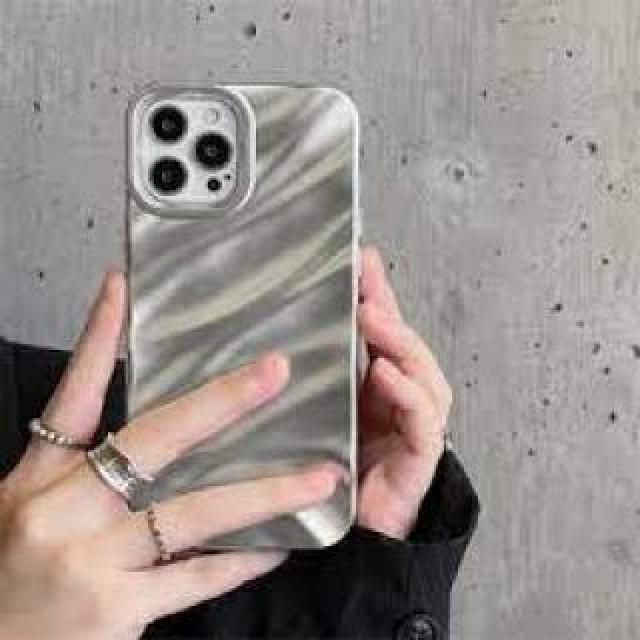smart phone: (110, 47, 395, 583)
